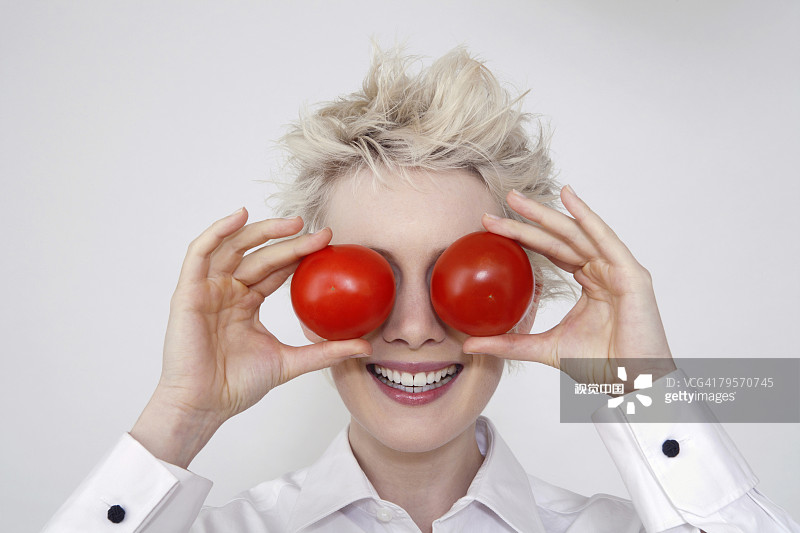no-phone: (153, 195, 382, 441), (447, 178, 681, 398)
